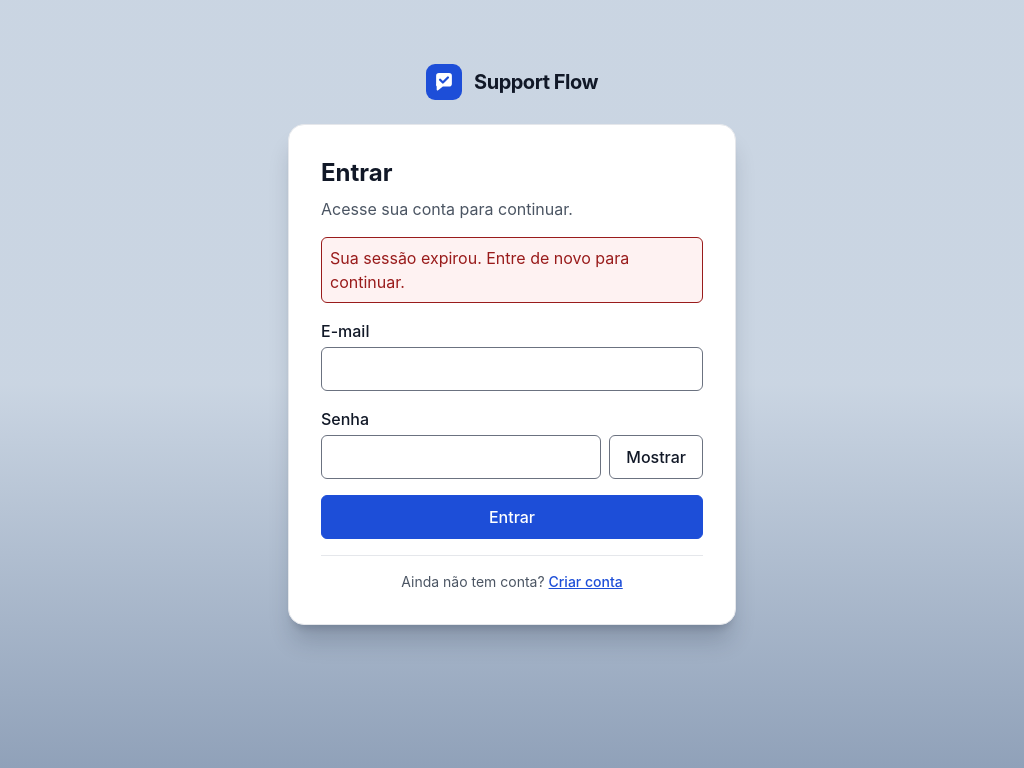
it: sessão e rotas › destino de sessão expirada › a mesma pessoa voltando a entrar volta ao destino
expect the heading "Entrar" is shown: met, box [321,157,392,189]
expect the message shows "Sua sessão expirou": met, box [330,248,629,292]
Type "d@x.dev" into the field labelled "E-mail" at (512, 369), box [321,347,703,391]
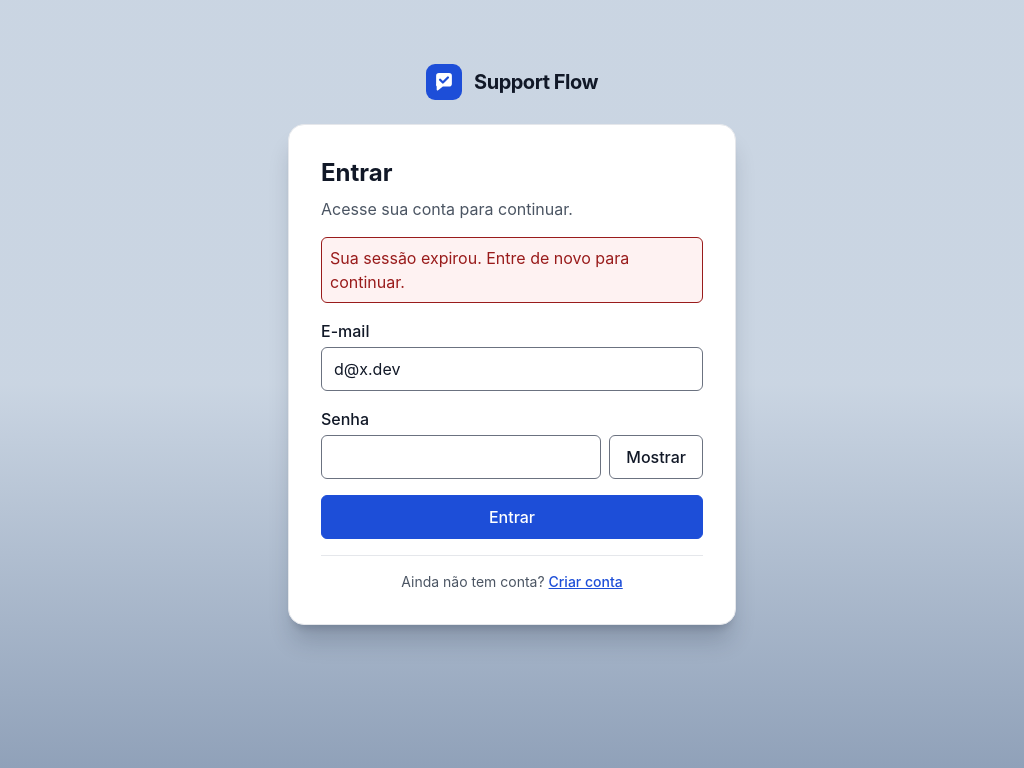
Type "senha-forte" into the password field labelled "Senha" at (461, 457), box [321,435,601,479]
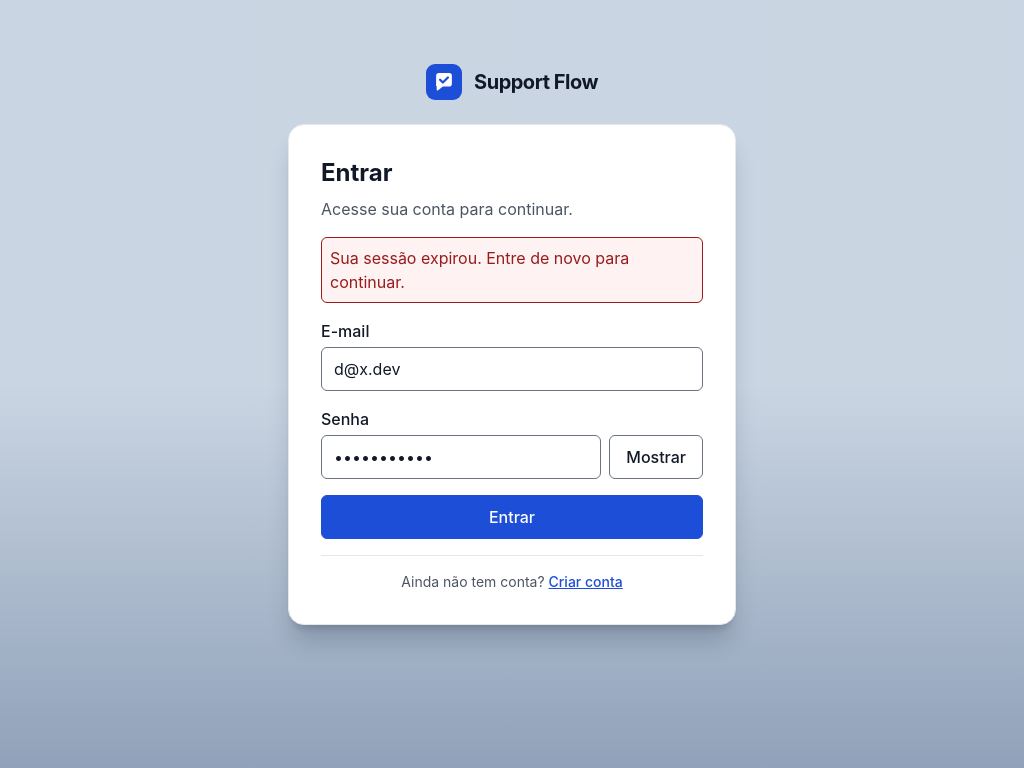
Click the button "Entrar" at (512, 517), box [321,495,703,539]
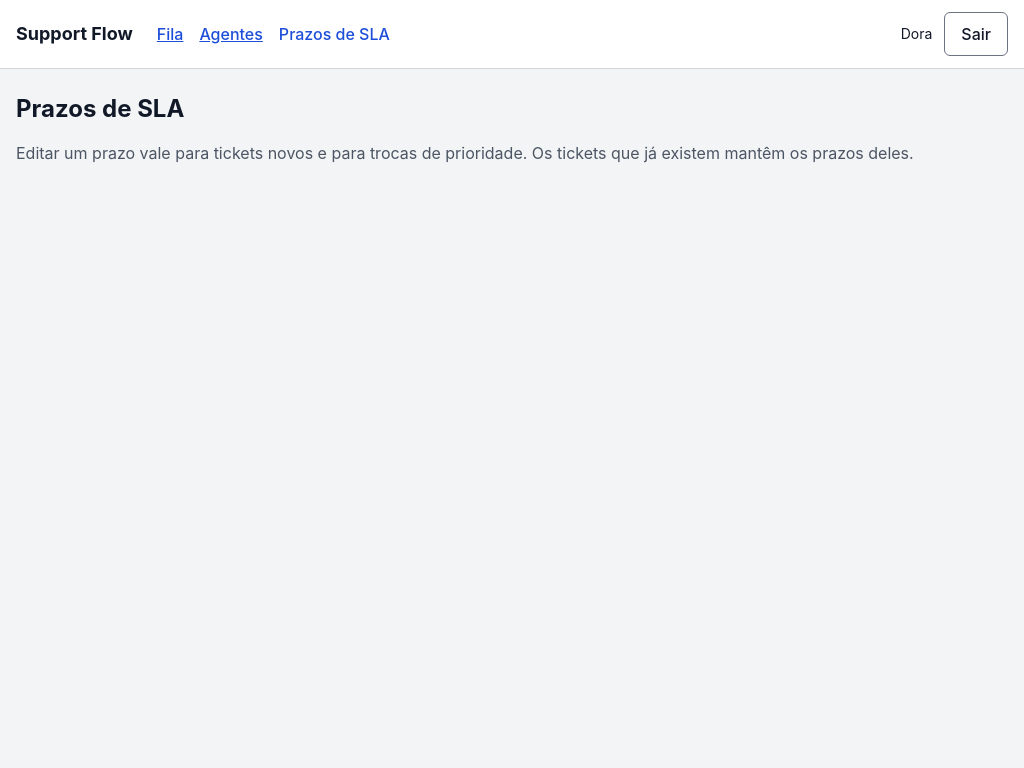
expect the heading "Prazos de SLA" is shown: met, box [16,93,184,125]
expect the heading "Entrar" is gone: met
